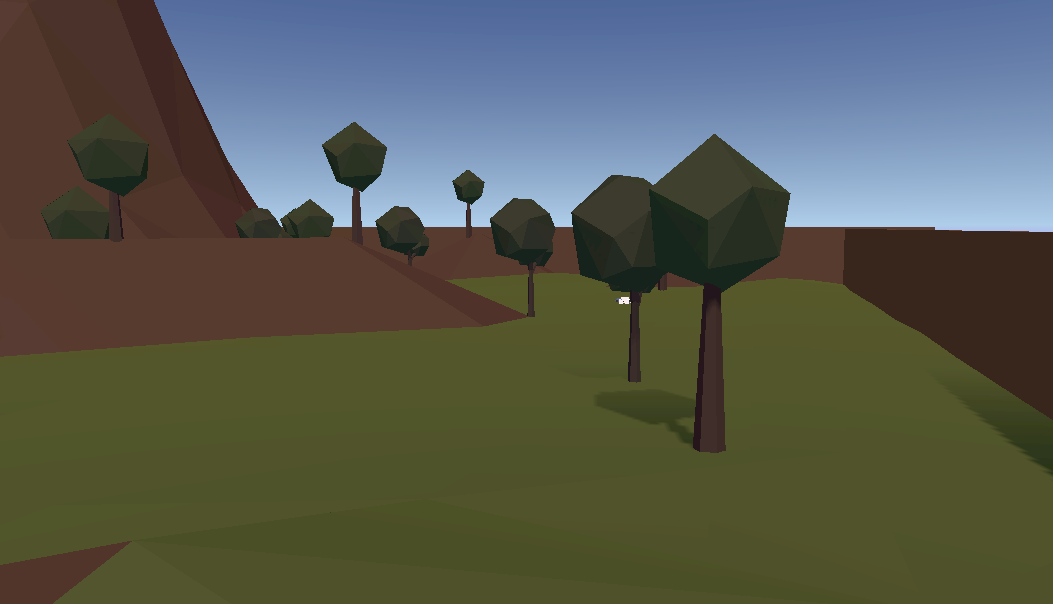tree: (651, 131, 792, 457), (569, 172, 667, 386), (69, 113, 154, 242), (314, 119, 388, 241), (489, 195, 558, 319), (40, 182, 111, 241), (375, 207, 434, 265), (448, 170, 492, 237), (281, 201, 334, 239), (230, 203, 281, 237)
